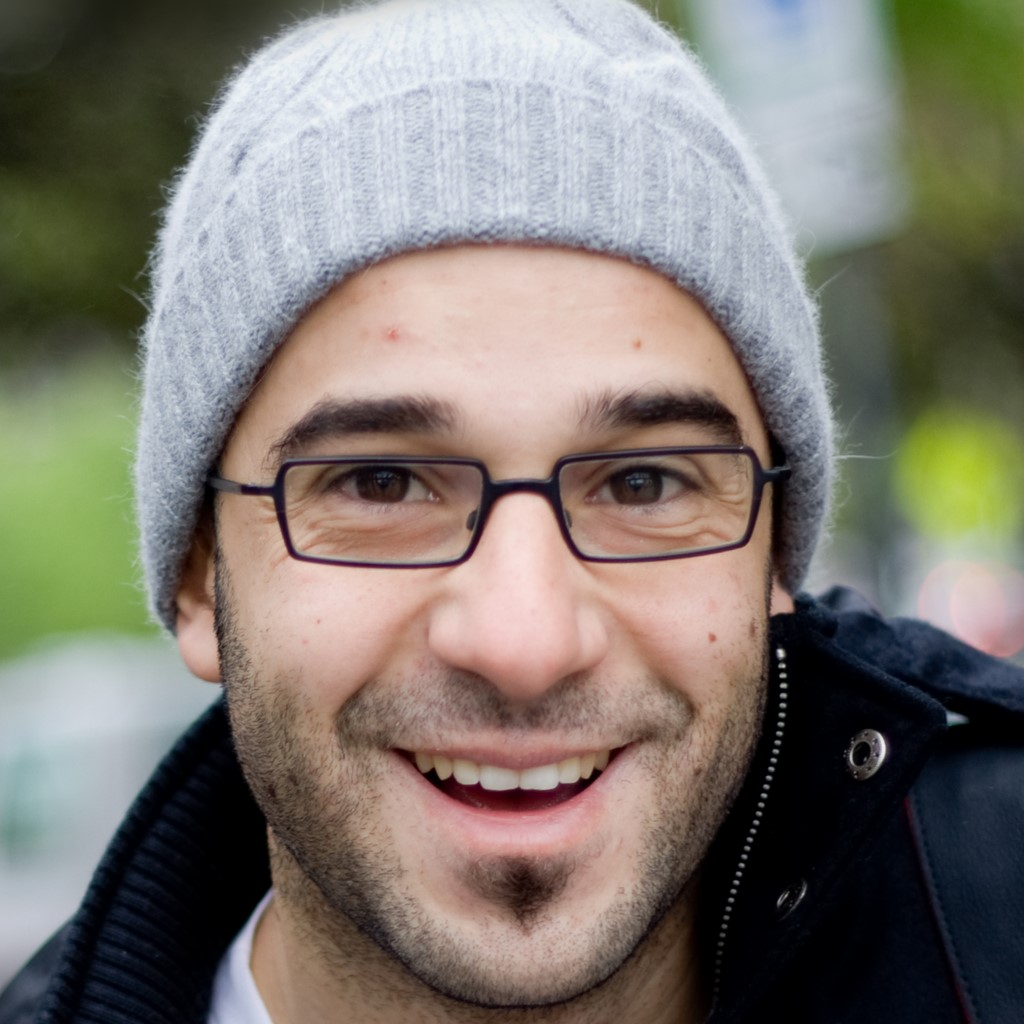sin_mascara: (188, 177, 774, 1004)
